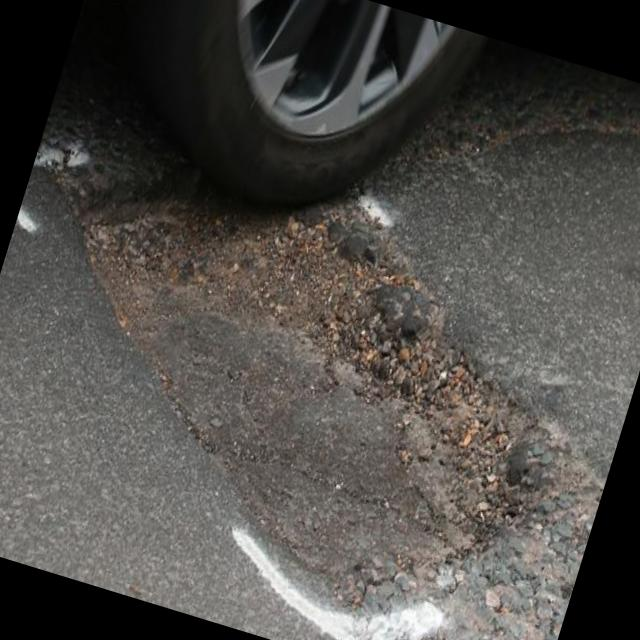Potholes: (0, 81, 620, 640)
